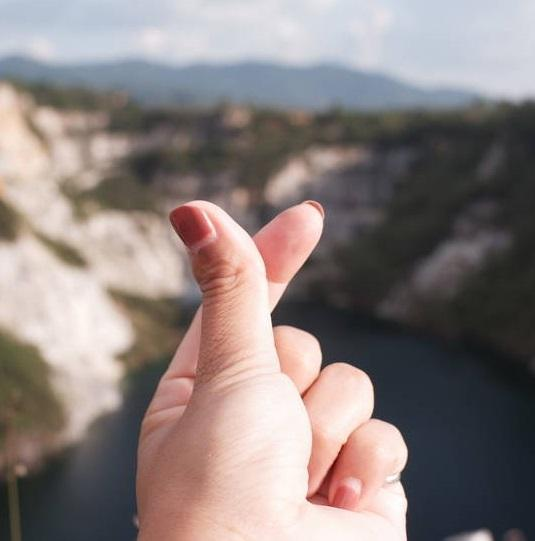heart gesture: (166, 196, 328, 326)
